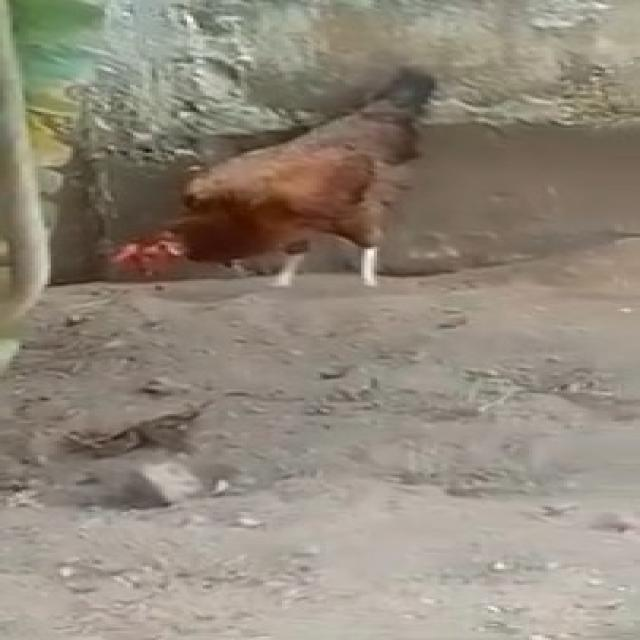stand bath: (98, 57, 447, 300)
